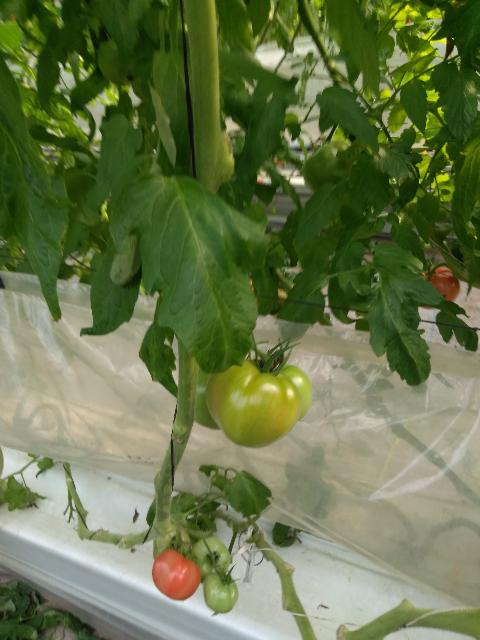b_fully_ripened: (418, 266, 461, 309)
b_green: (205, 359, 312, 449), (190, 536, 231, 584), (194, 366, 220, 430), (203, 574, 239, 614), (153, 524, 191, 561)
b_half_ripened: (152, 549, 201, 600)
